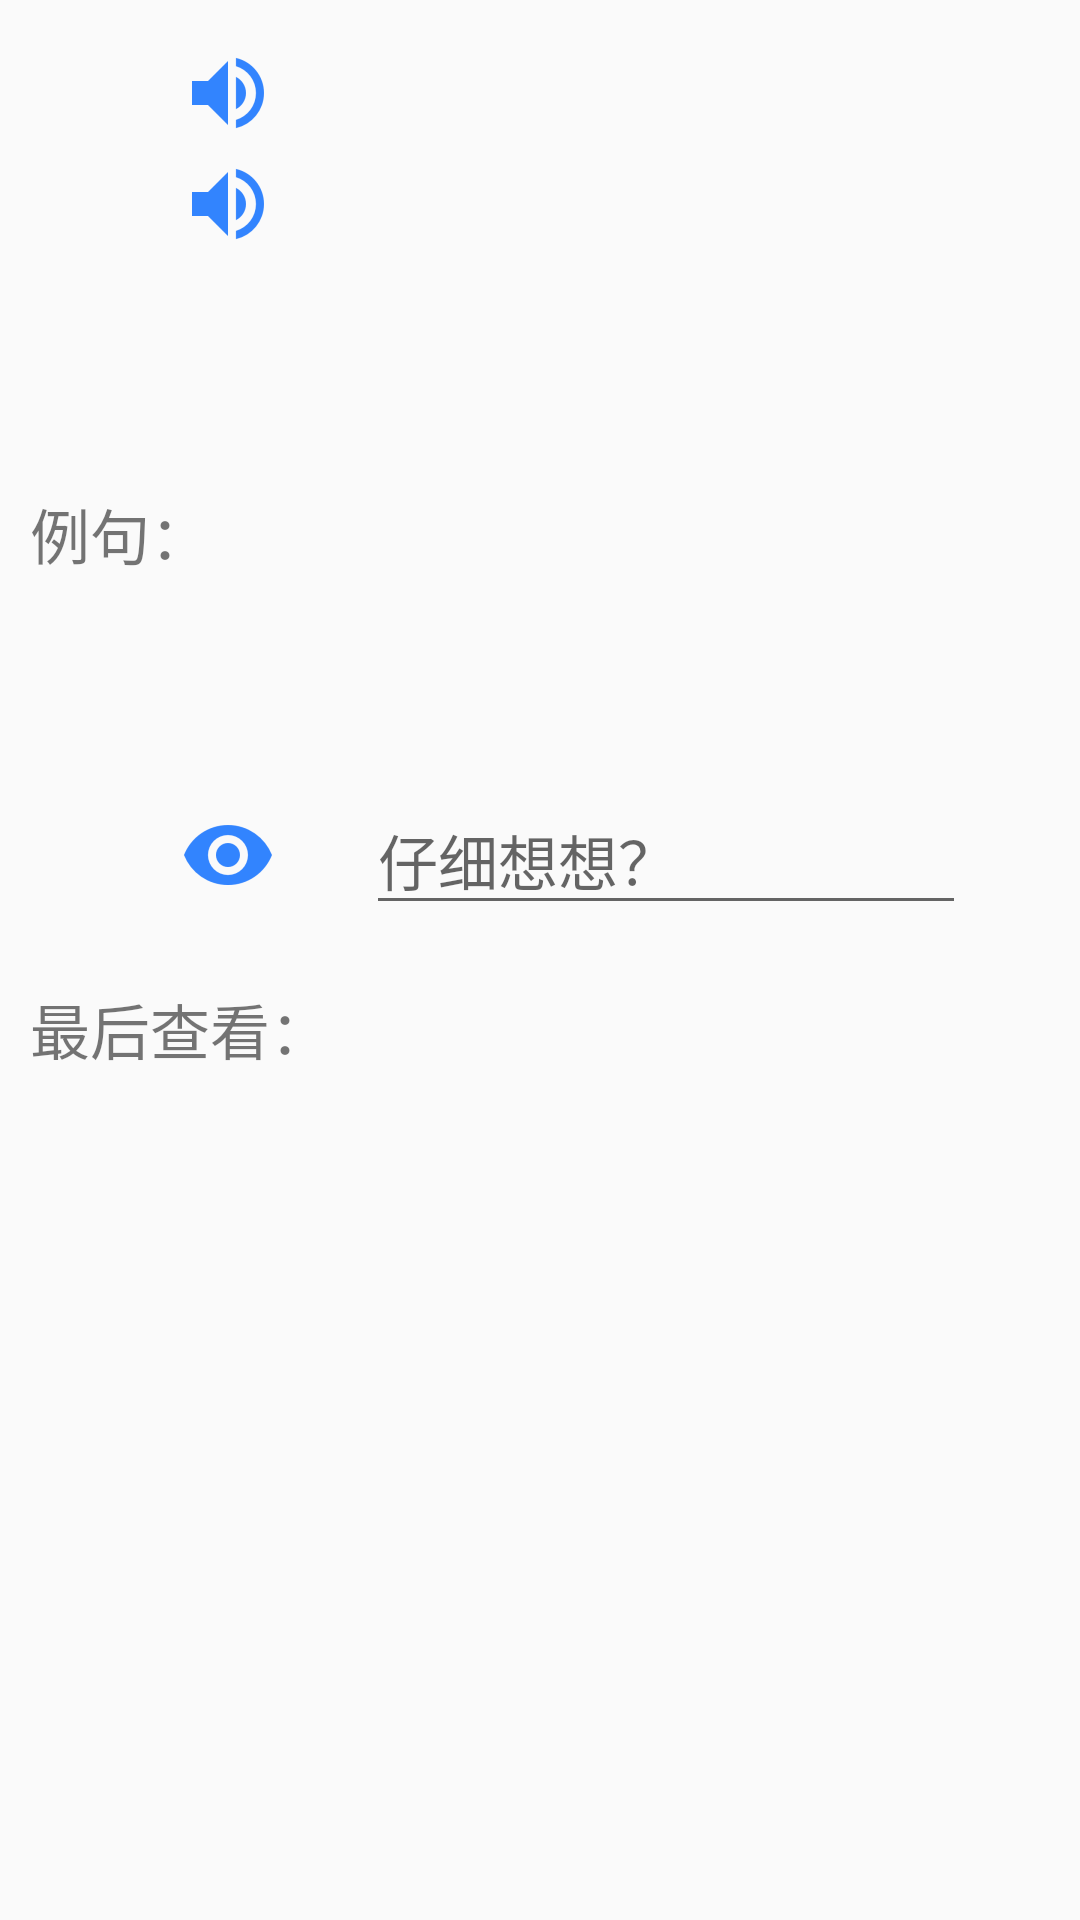

Where icons sit on this 1080 x 1920 app screen, as (x1, y1, x2, y2):
cheat view: (184, 825, 272, 885)
voice view: (192, 58, 264, 128), (192, 169, 264, 239)
